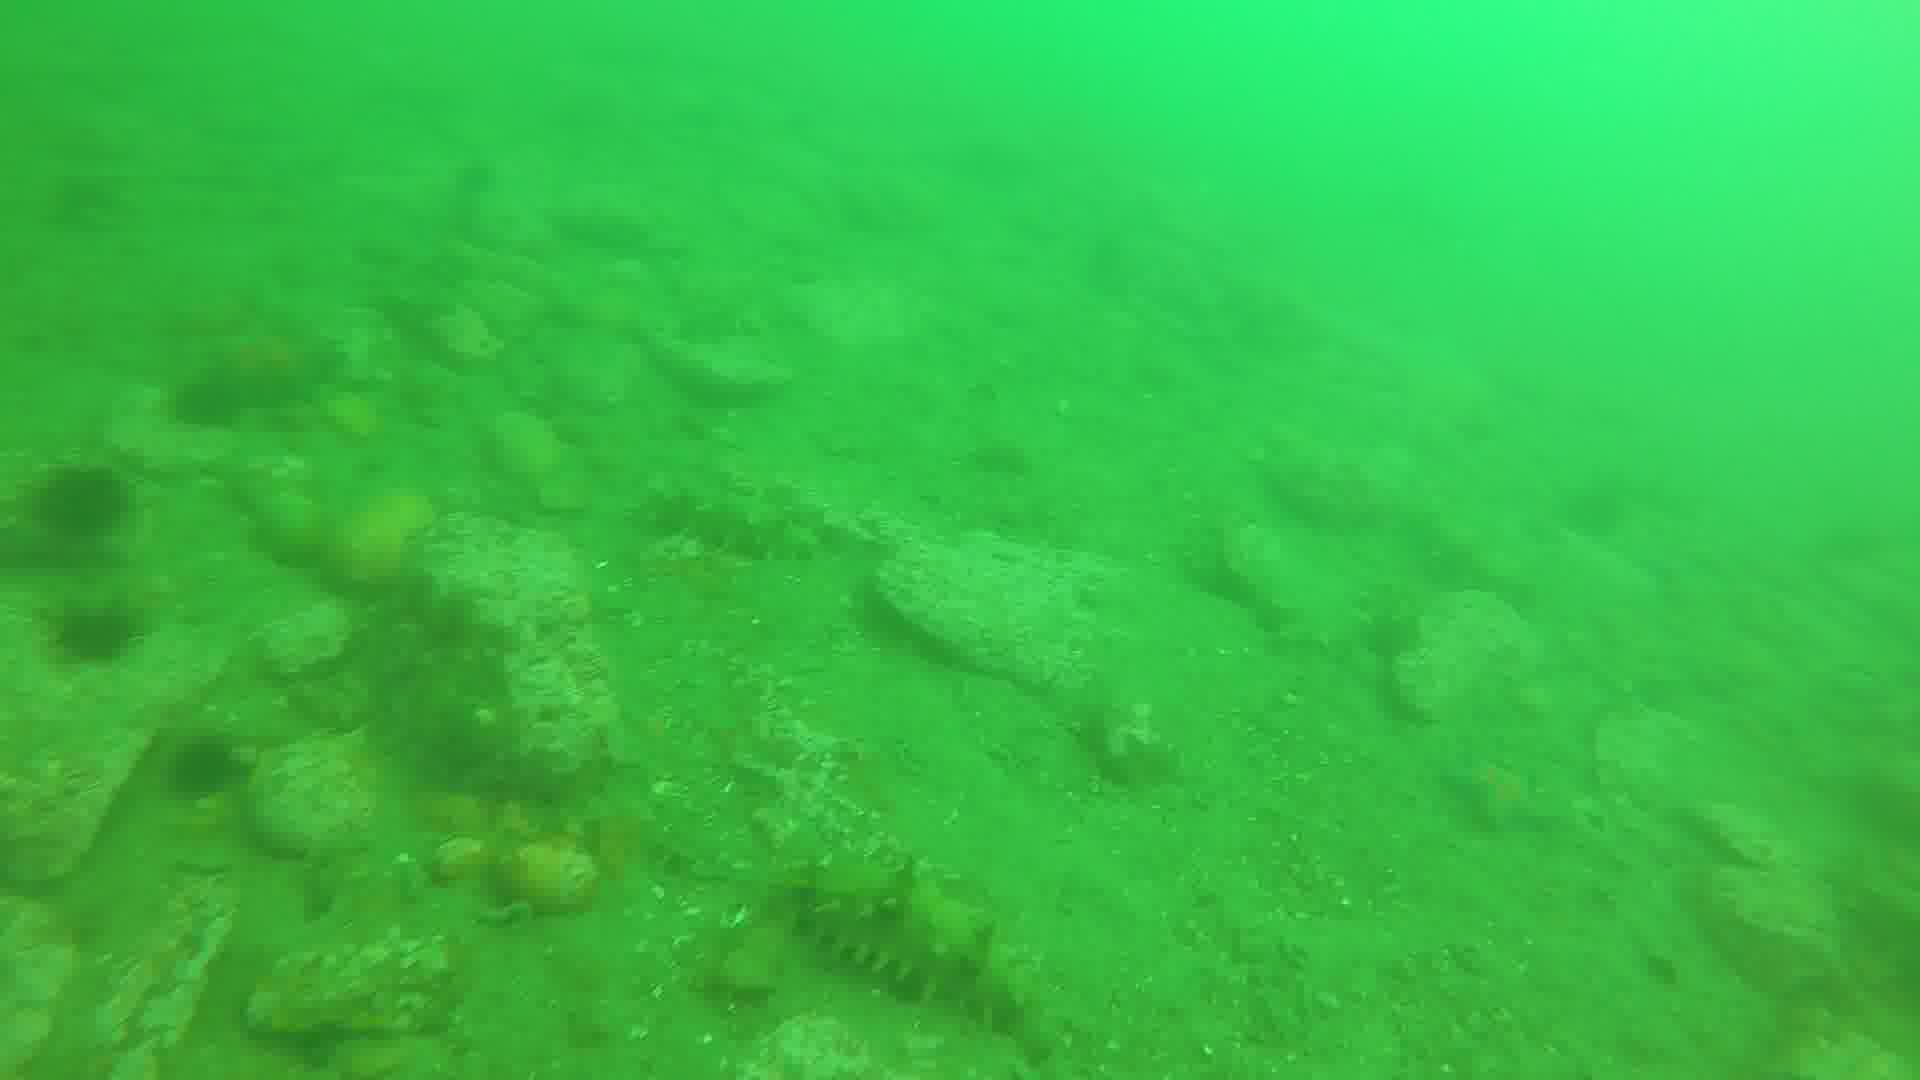echinus: (32, 454, 131, 541), (165, 727, 251, 791), (66, 596, 148, 655)
holothurian: (770, 853, 1015, 1029), (644, 473, 822, 564)
